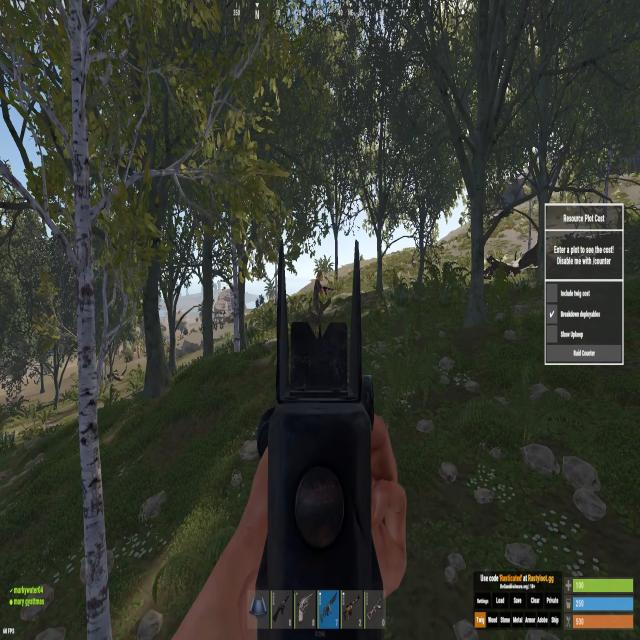Player: (313, 270, 325, 332)
